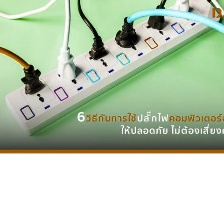three_eye_plug: (4, 0, 224, 137)
